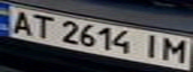1: (93, 25, 115, 52)
2: (54, 18, 81, 46)
4: (112, 27, 136, 55)
6: (75, 21, 96, 50)
A: (6, 8, 36, 35)
I: (139, 33, 166, 61)
M: (160, 36, 190, 64)
T: (27, 12, 57, 39)
